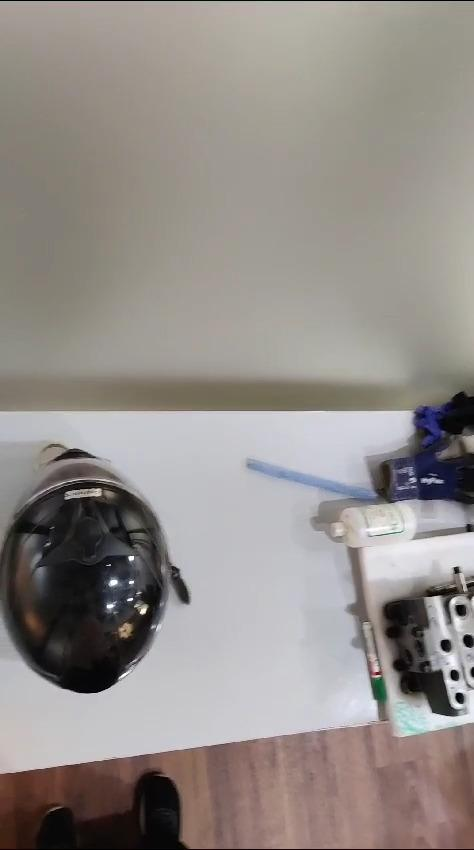Helmet: (4, 434, 172, 703)
